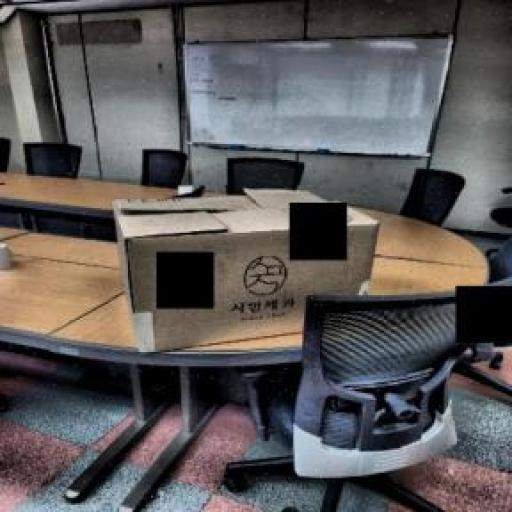box: (110, 185, 395, 364)
